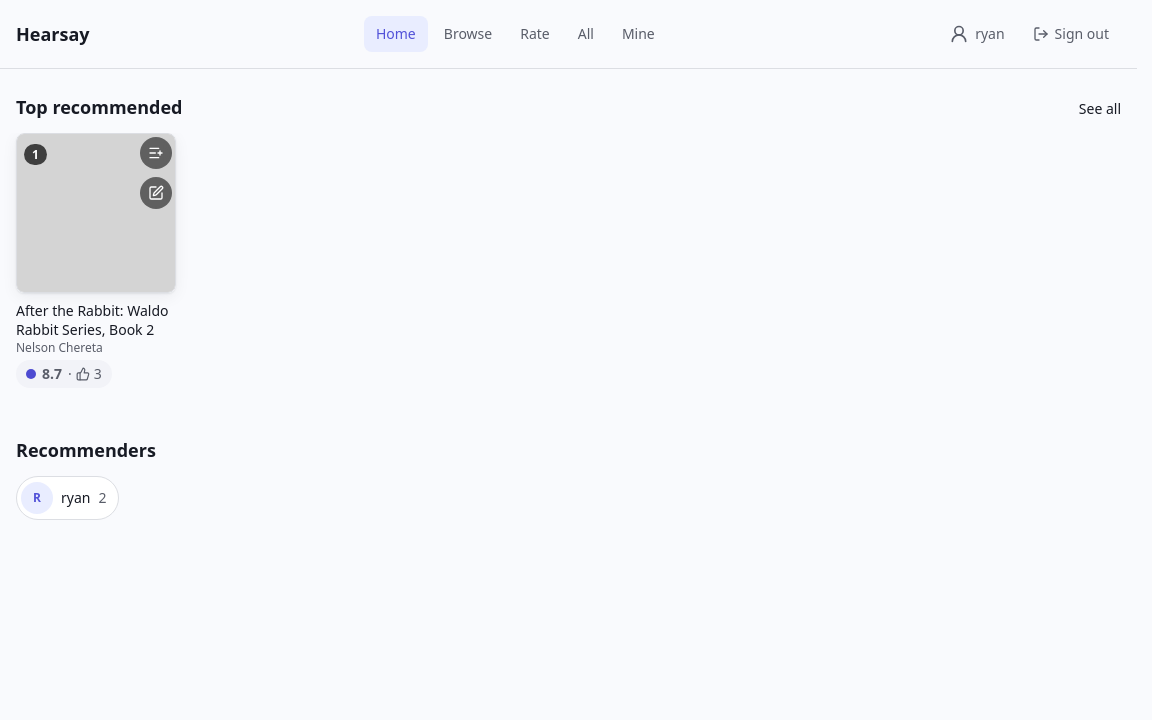
Scenario: the rating sheet › saves a note on its own, with no score or recommendation
Click the button named "Rate After the Rabbit: Waldo Rabbit Series, Book 2".
click(156, 193)  # box [136, 173, 176, 213]
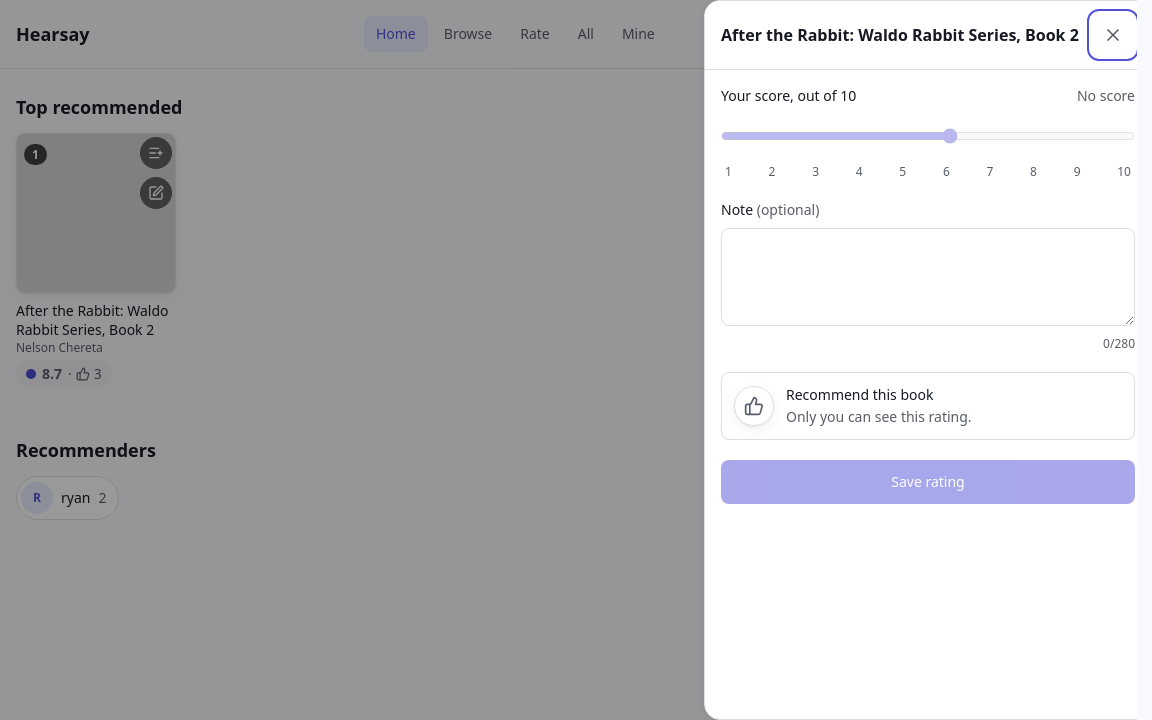
Now the button "Save rating" is disabled, box [721, 460, 1135, 504]
Type "Start with book two" into the text box.
click(928, 277); type("Start with book two")  # box [721, 228, 1135, 326]
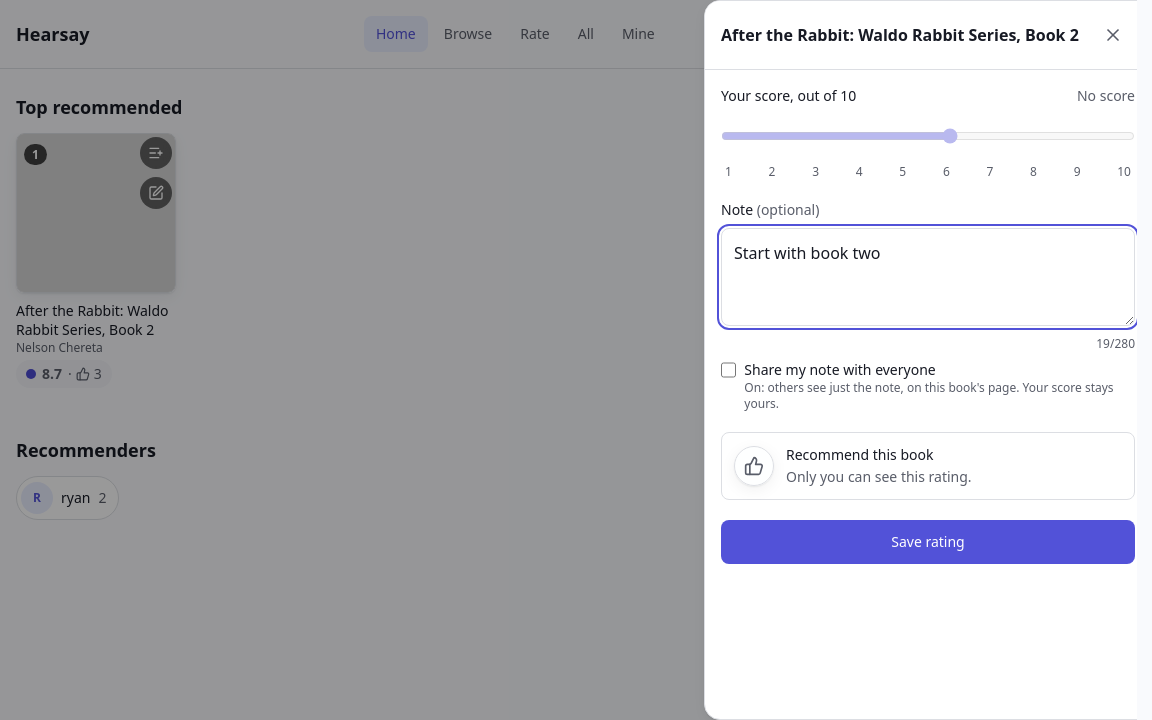
Now the button "Save rating" is enabled
Click the button "Save rating".
click(928, 542)  # box [721, 520, 1135, 564]
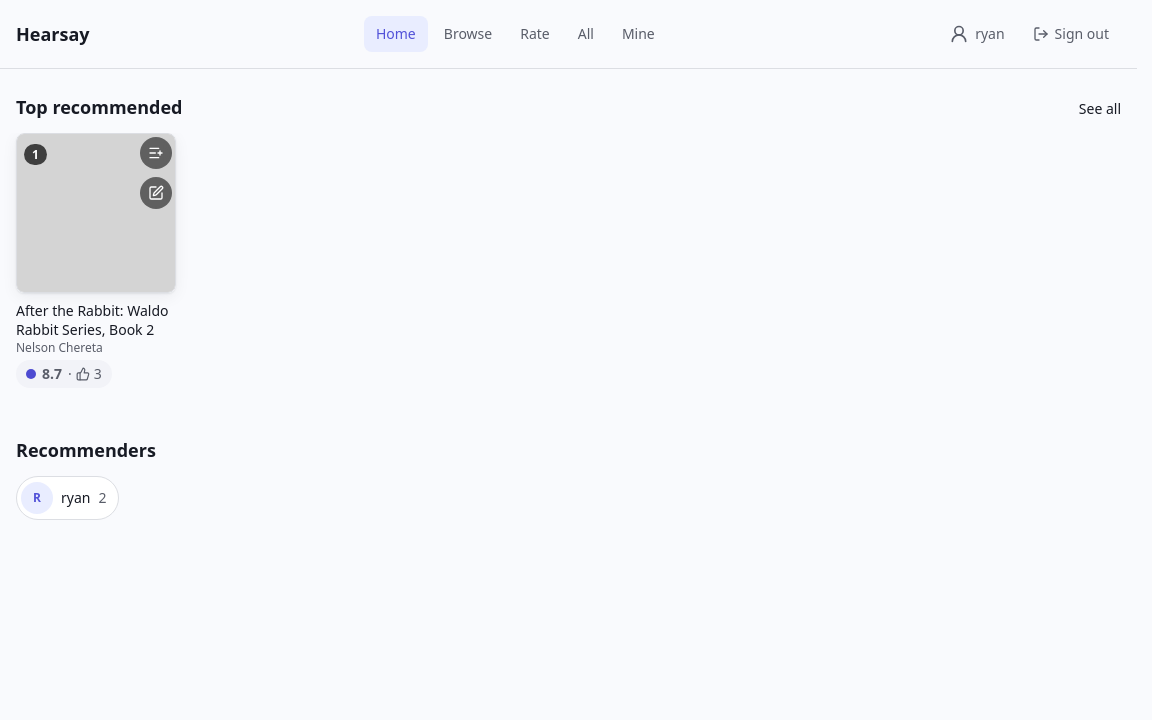
Now the dialog is gone
